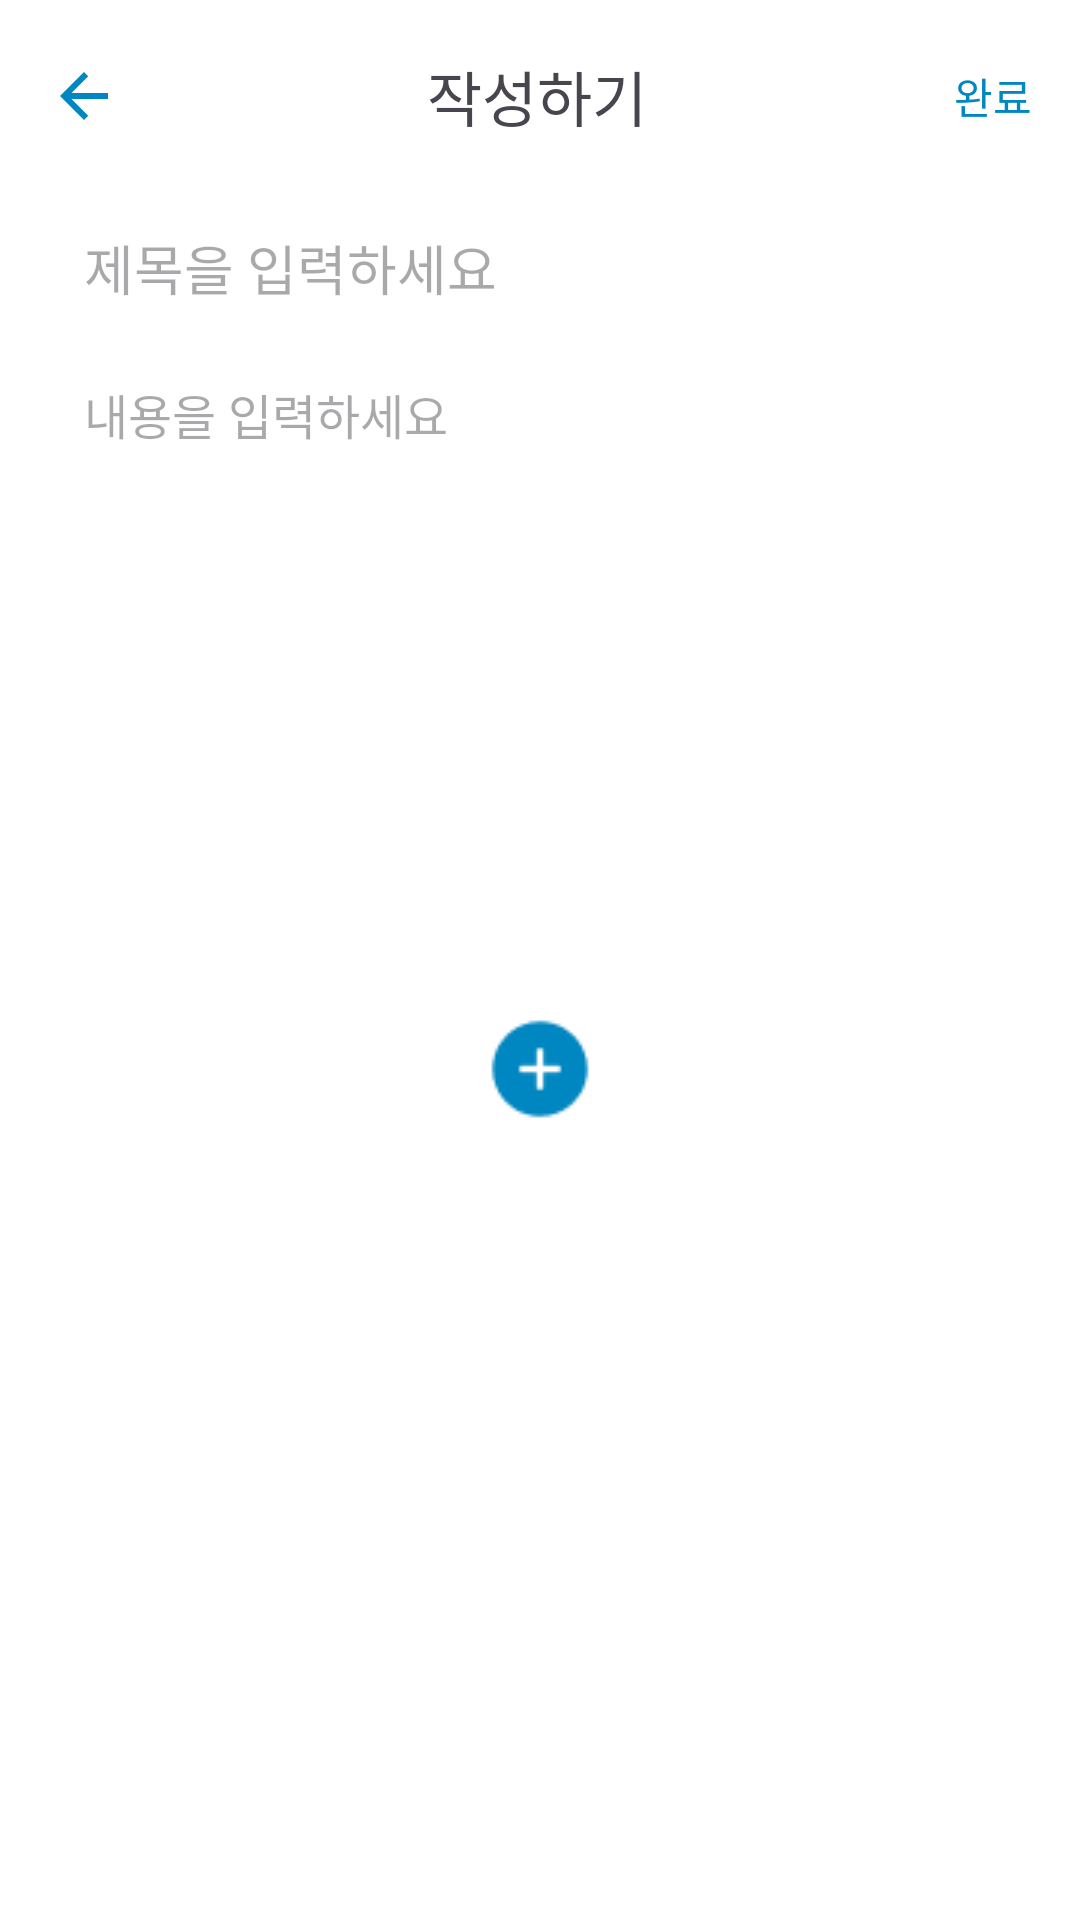

Icon click points for this 1080*1920 phone screenshot, format (x,y):
back: (84,96)
이미지 추가: (540,1069)
